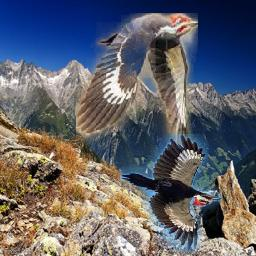Woodpecker: (76, 13, 198, 151), (120, 134, 222, 252)
